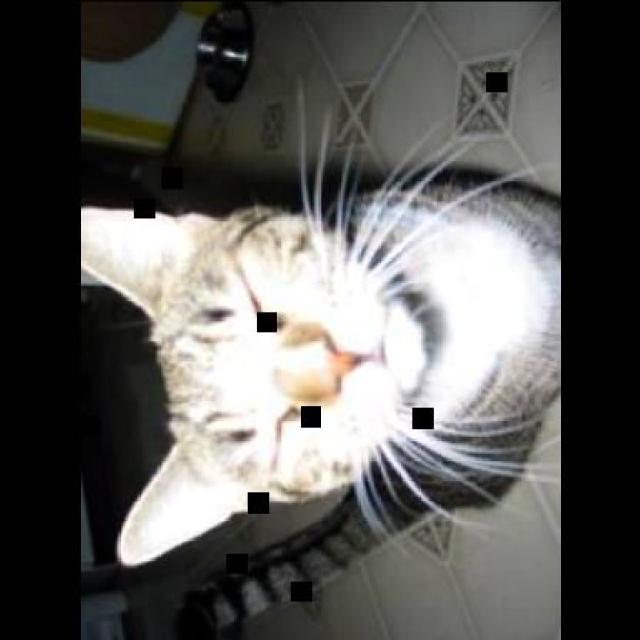unauthorized: (78, 88, 560, 569)
